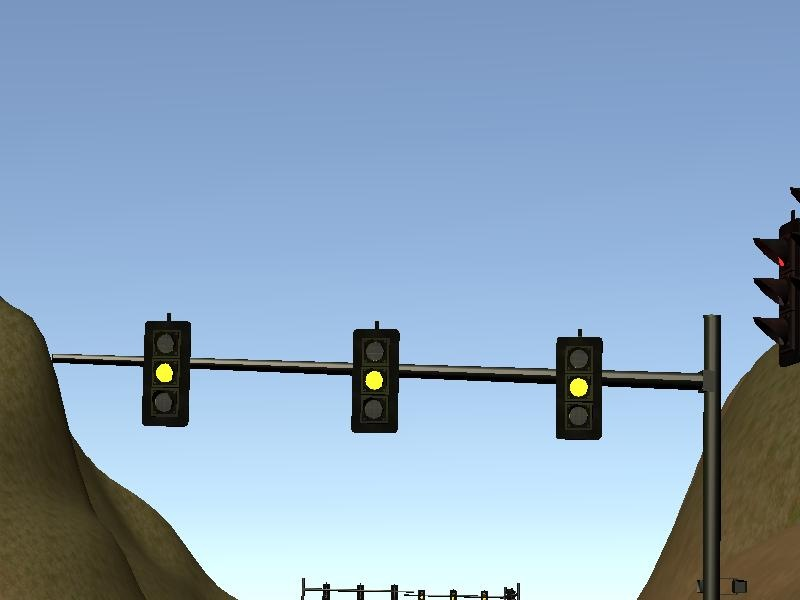YELLOW: (553, 336, 603, 442), (350, 329, 400, 435), (142, 321, 192, 427)
